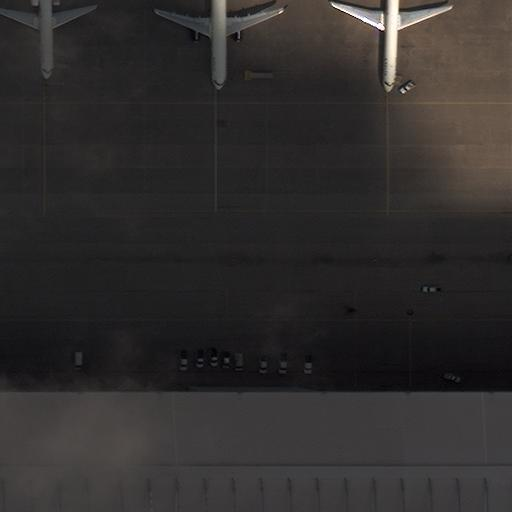Medium Civil Transport: (154, 0, 283, 94), (332, 0, 454, 95), (0, 0, 97, 83)
